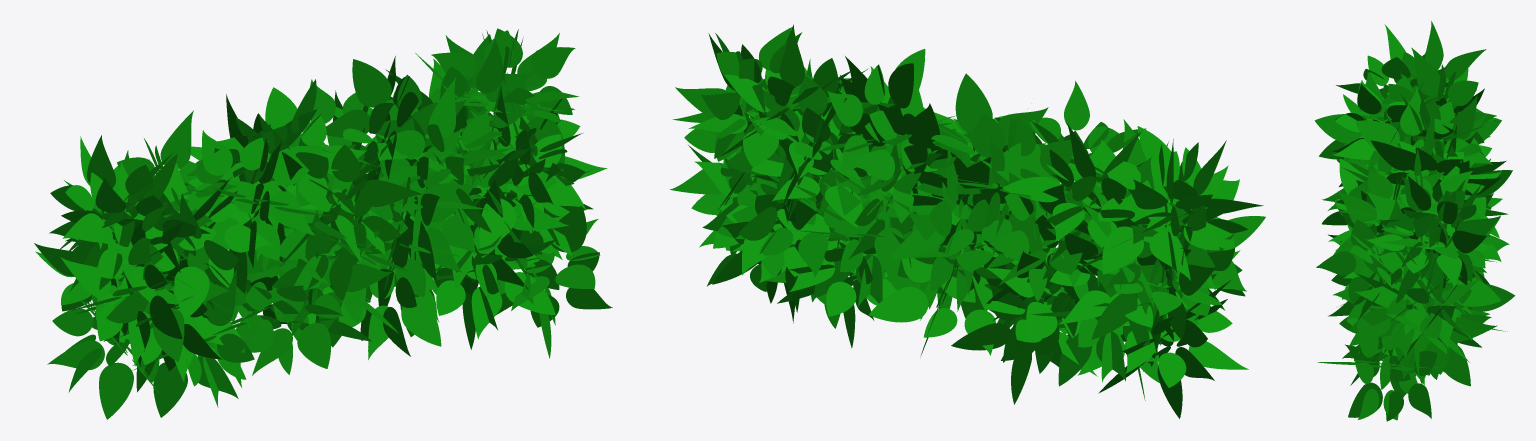
File: Tori_PensasAita_LOD2.fbx
3 views of the same model, side by side, from view 1: azimuth 30°, elevation 25°; view 2: azimuth 150°, elevation 25°; view 3: azimuth 270°, elevation 25° (orthographic). The views are drawn at different scales.
Visible parts, largest first — view 1: PensasAita_LOD2; view 2: PensasAita_LOD2; view 3: PensasAita_LOD2.
Part boxes in pixels (box(x1,y1,x2,y2)): PensasAita_LOD2: box(34, 28, 612, 419); PensasAita_LOD2: box(670, 24, 1265, 418); PensasAita_LOD2: box(1314, 21, 1515, 421).
Bounding box in the file's own units: 480 × 256 × 189.
